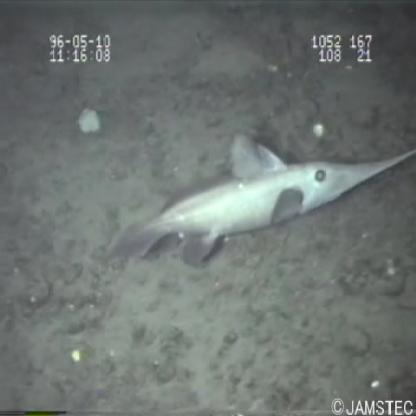Bio: (103, 126, 416, 273)
